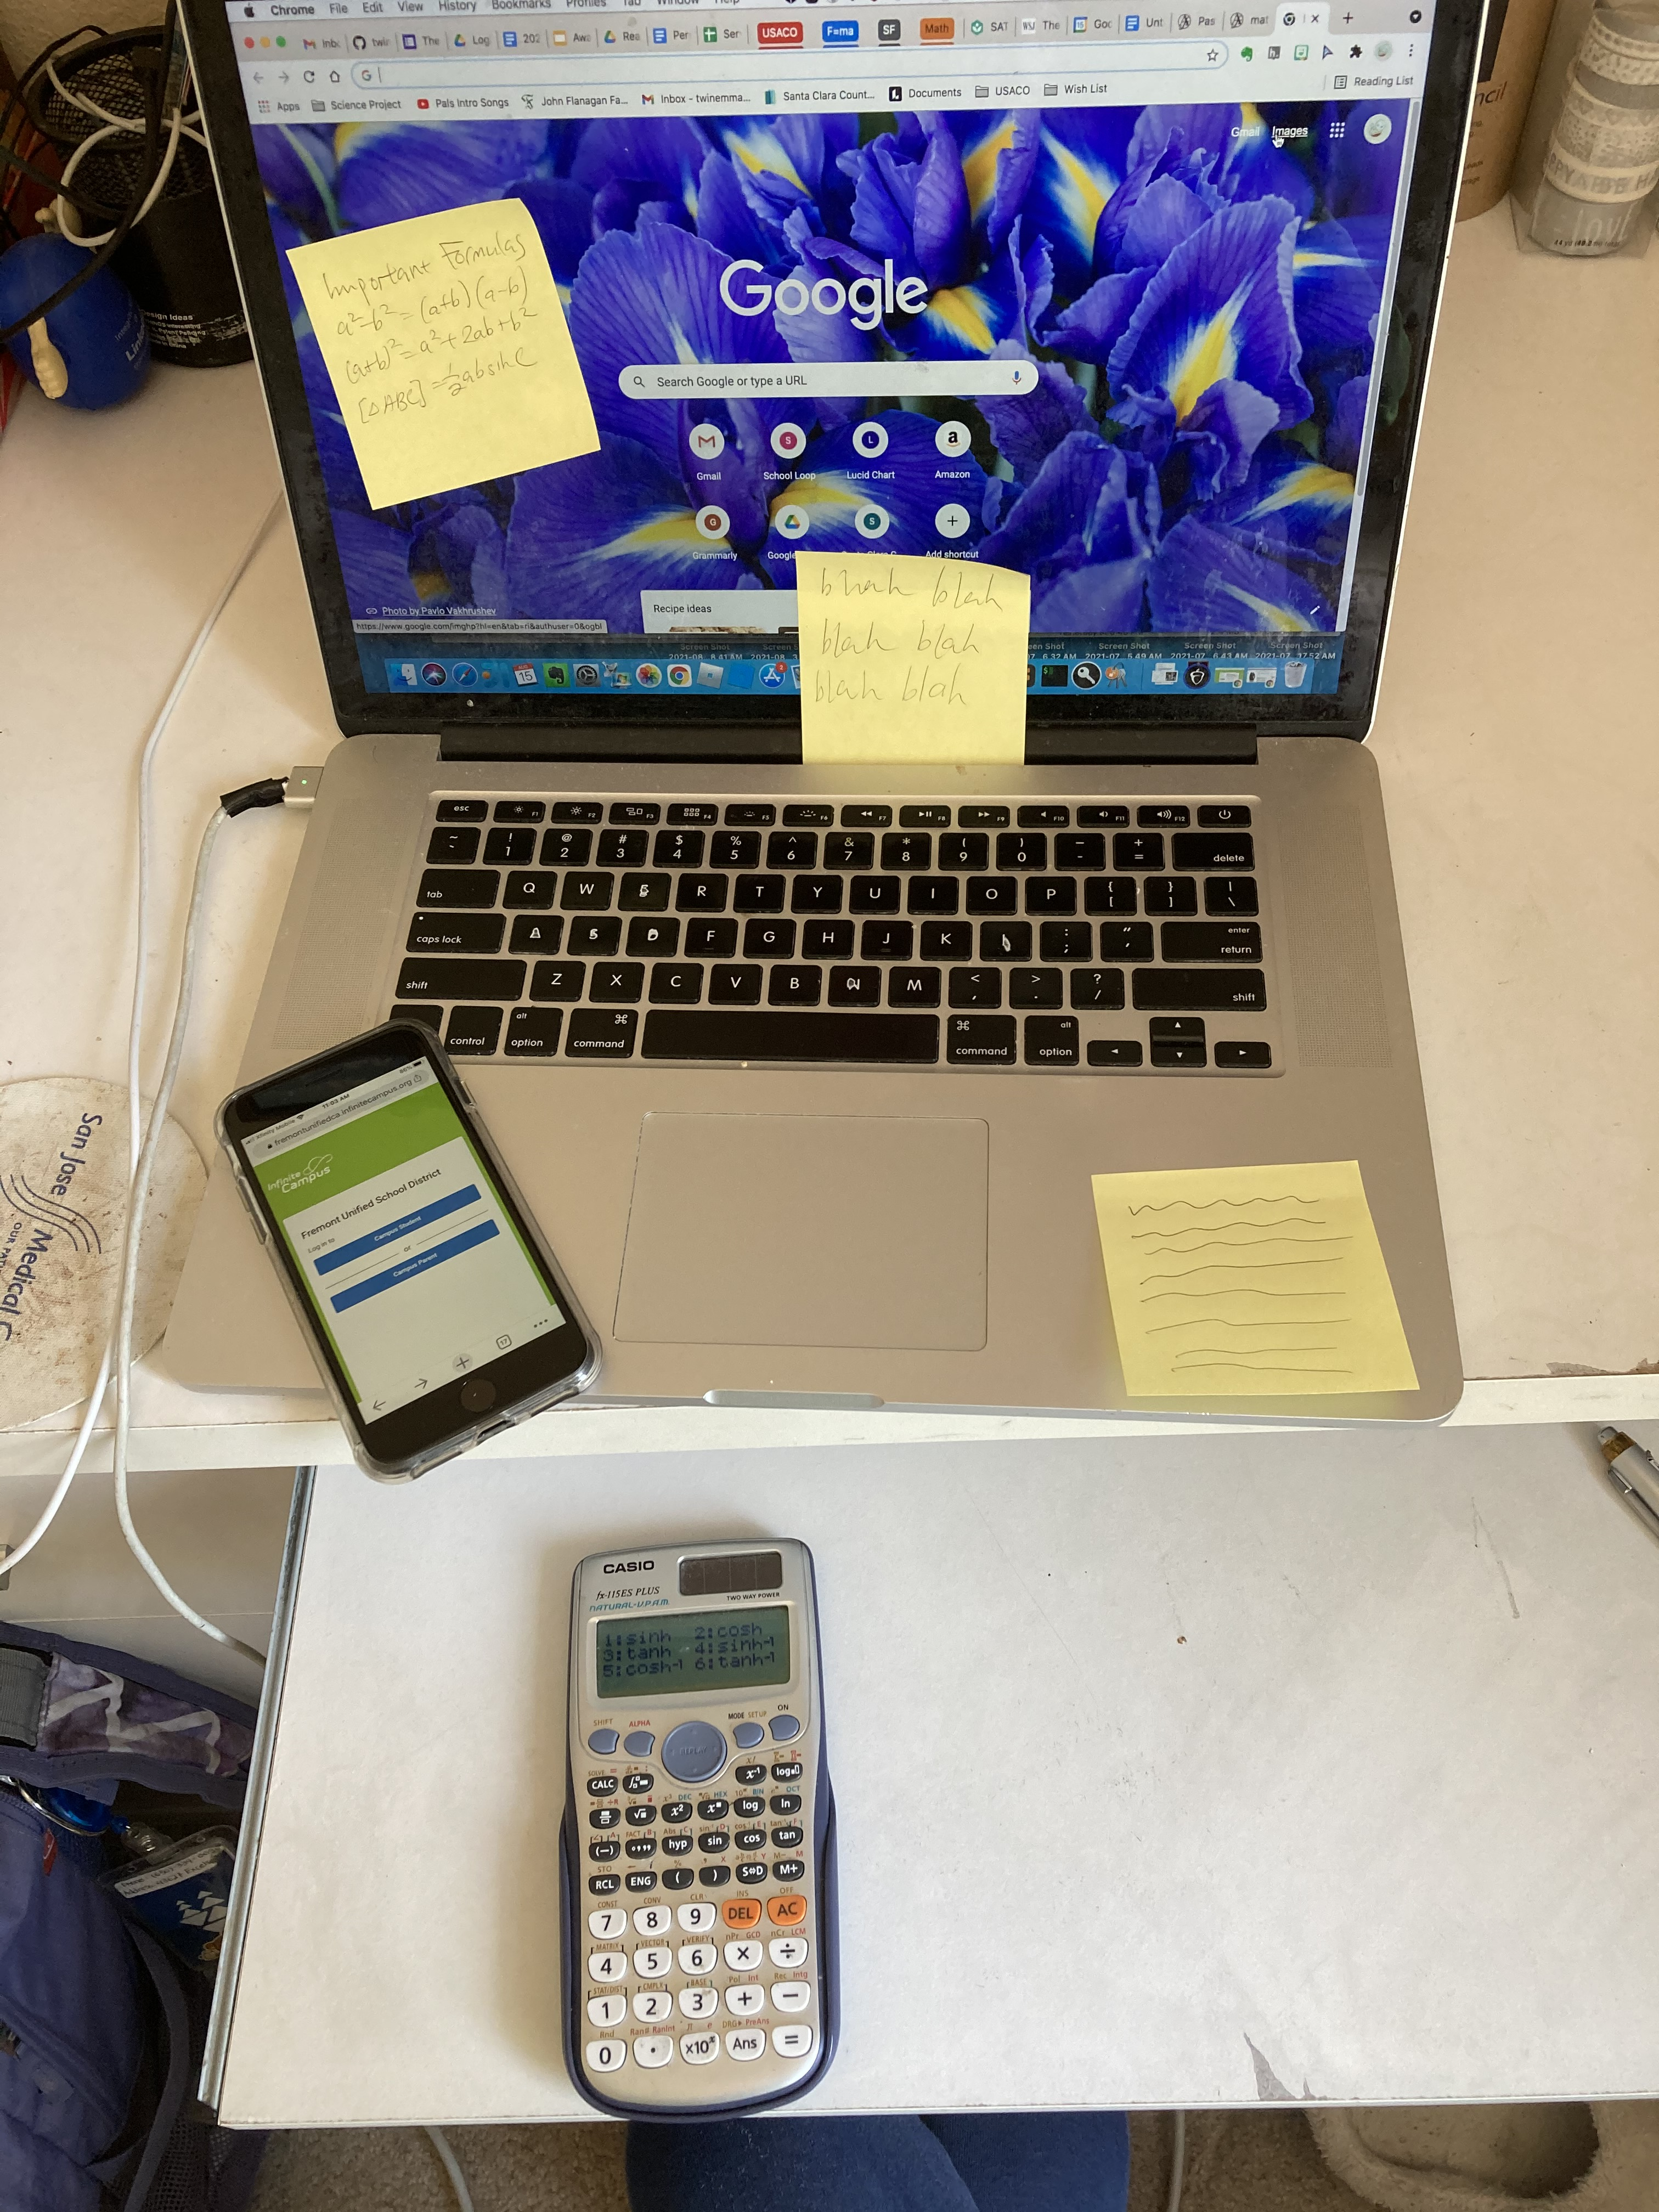Calculator: (568, 1538, 850, 2107)
Cell Phone: (216, 1045, 596, 1480)
Note: (291, 206, 605, 500), (1094, 1174, 1431, 1371), (788, 540, 1051, 754)
